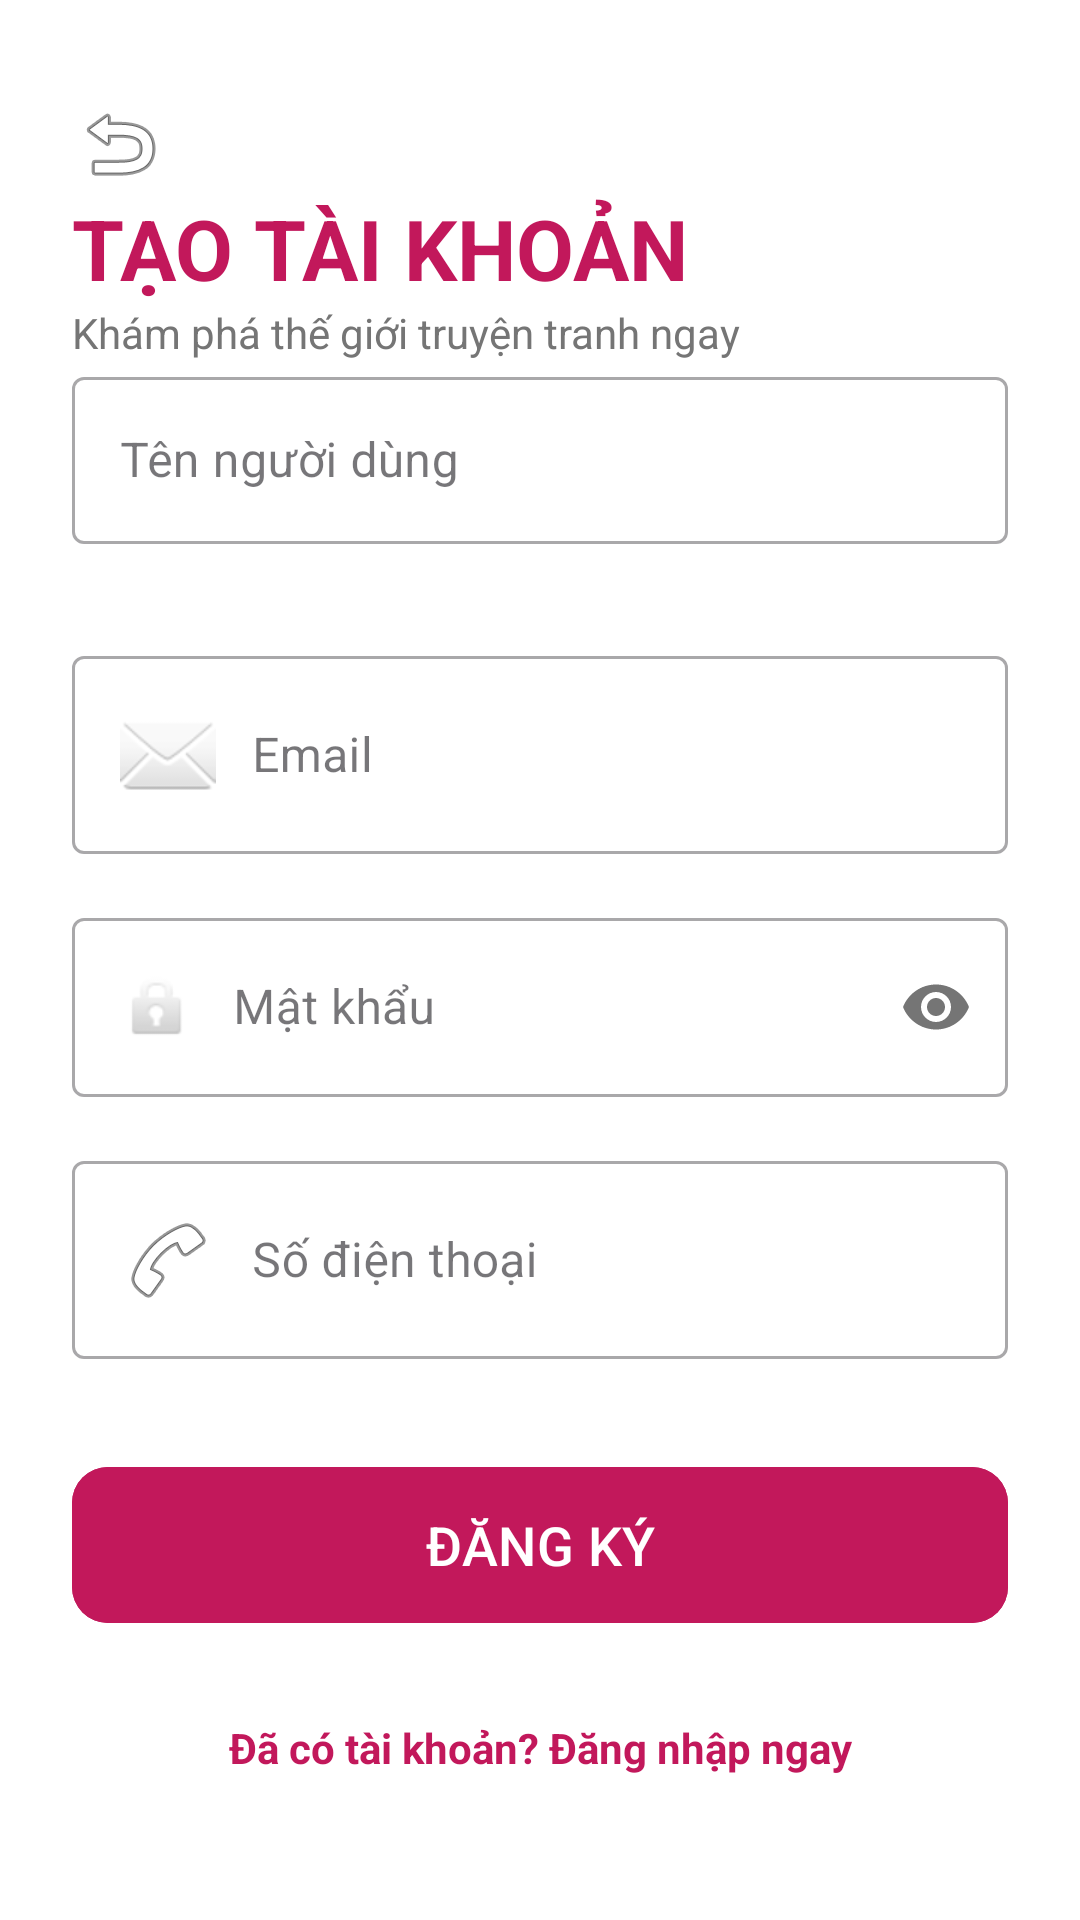

Icon click points for this 1080 × 1920 phone screenshot, format (x,y):
Quay lại: (121,144)
